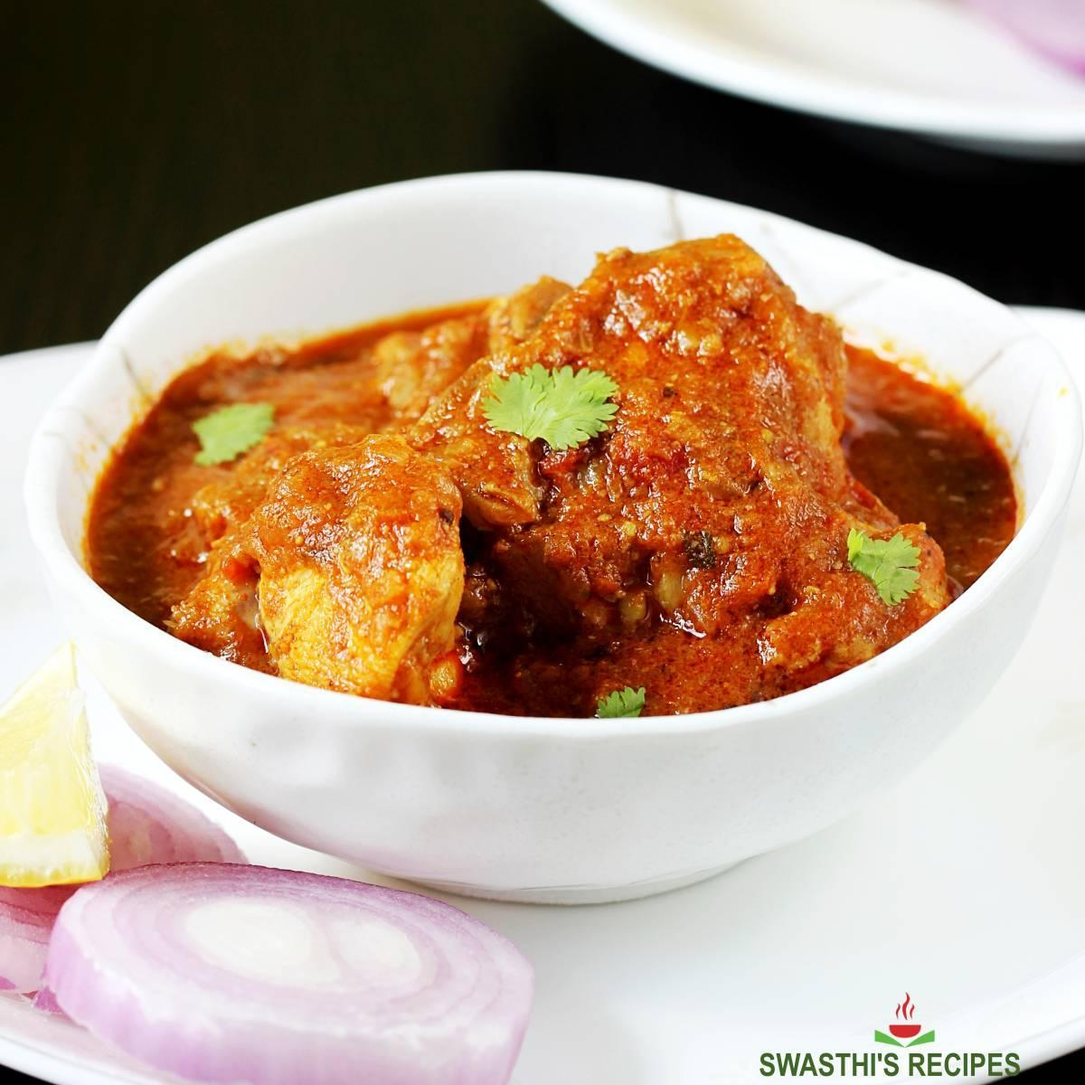chicken: (81, 300, 976, 681)
